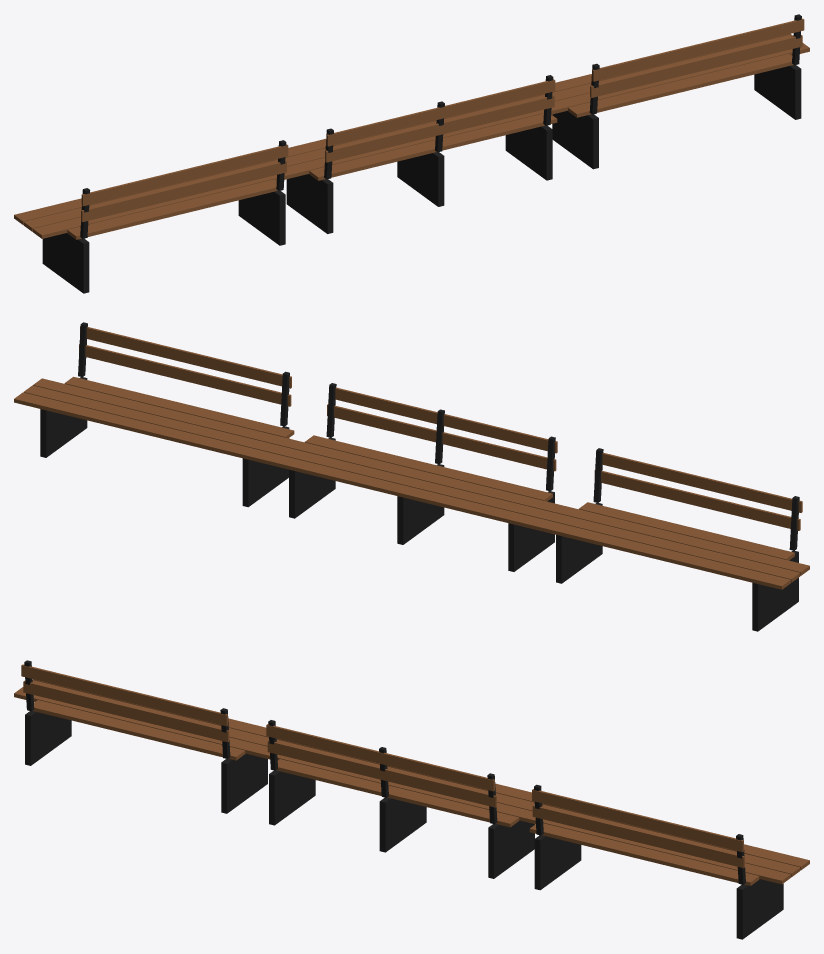
3 views of the same model, one above another, from view 1: azimuth 30°, elevation 25°; view 2: azimuth 150°, elevation 25°; view 3: azimuth 330°, elevation 25° (orthographic).
Visible parts, largest first — view 1: parametric-variant-bench-3rd-6ce3d94f985cbd5f0082; view 2: parametric-variant-bench-3rd-6ce3d94f985cbd5f0082; view 3: parametric-variant-bench-3rd-6ce3d94f985cbd5f0082.
Boxes of the visible parts, x1,y1,x2,y2 form: parametric-variant-bench-3rd-6ce3d94f985cbd5f0082: (14,14,809,293); parametric-variant-bench-3rd-6ce3d94f985cbd5f0082: (14,322,809,631); parametric-variant-bench-3rd-6ce3d94f985cbd5f0082: (14,660,809,939).
Size of the model in its own units: 6.6 by 0.85 by 0.6674.
